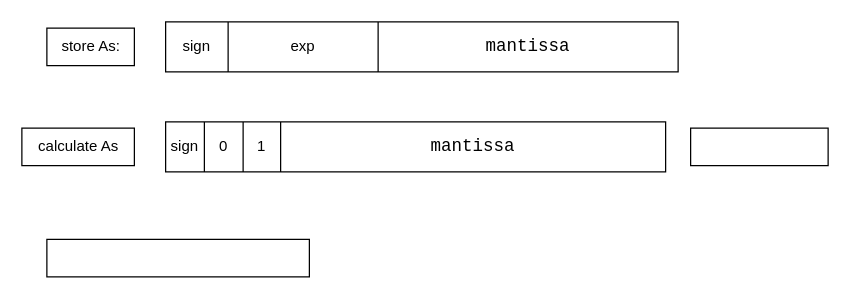
Some shapes in this 850 by 299 pixel diagram are drawn without their labels. Each missing label, with the centre of its shape:
rounding:round to even(only once!!): point (177, 257)
X (1<<(exp-127)): point (758, 146)
